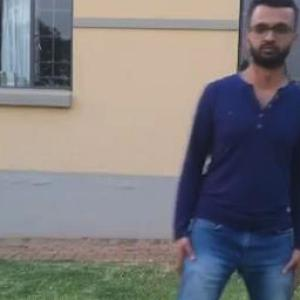follow: (176, 0, 300, 299)
